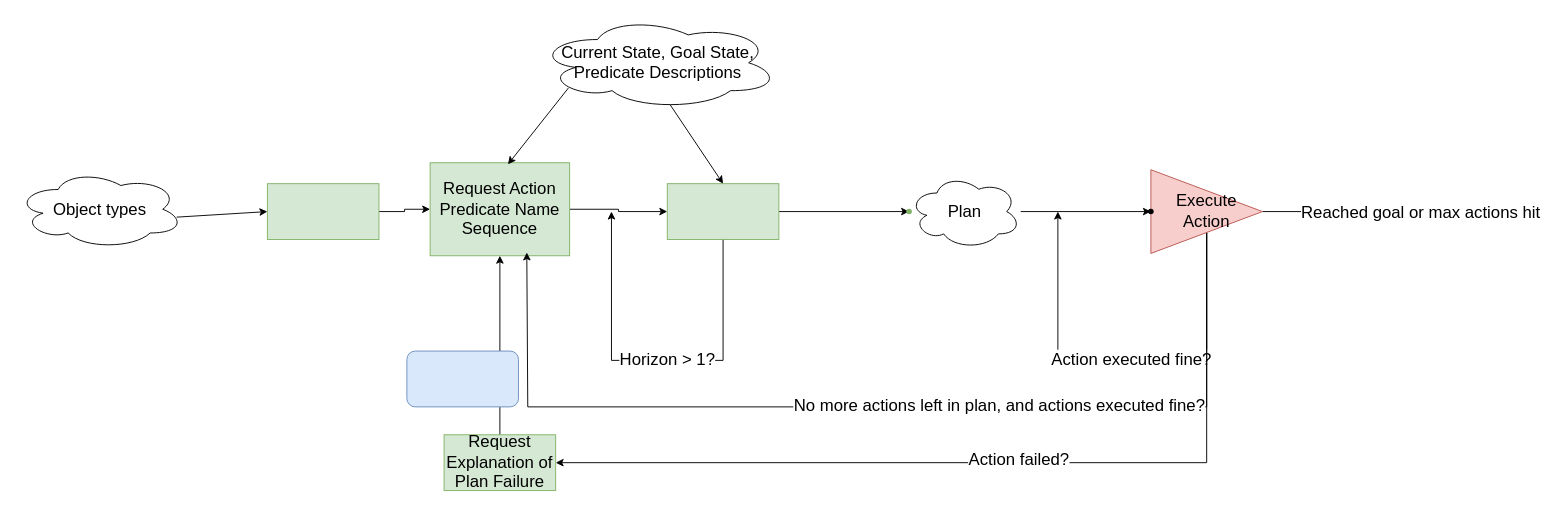
This 1556x509 diagram has some shape labels left out. The centre of each missing label's shape, as x and y in pixels:
Environment Reset: the point at 462,378
Give Domain Introduction: the point at 322,211
Request Ground Action: the point at 722,211
